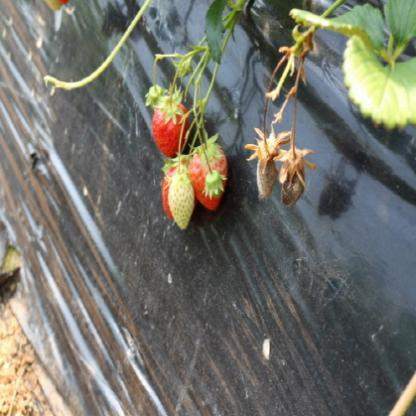Strawberry_Gray_Mold: (245, 124, 291, 202), (271, 144, 318, 209)
